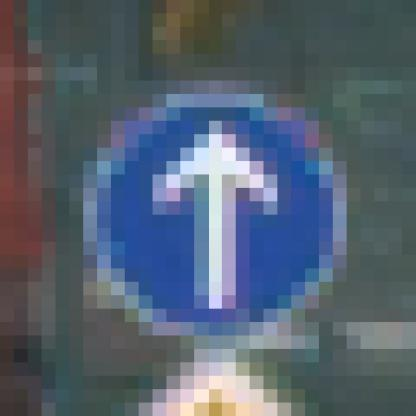AheadOnly: (70, 81, 348, 350)
